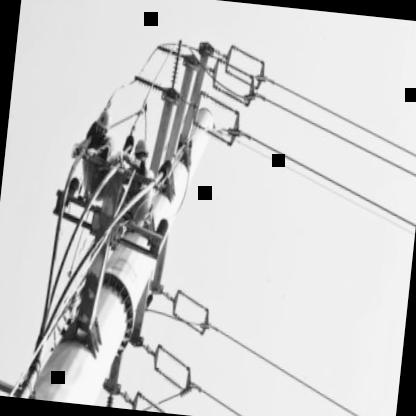helmet: (130, 133, 152, 171), (90, 109, 113, 141)
